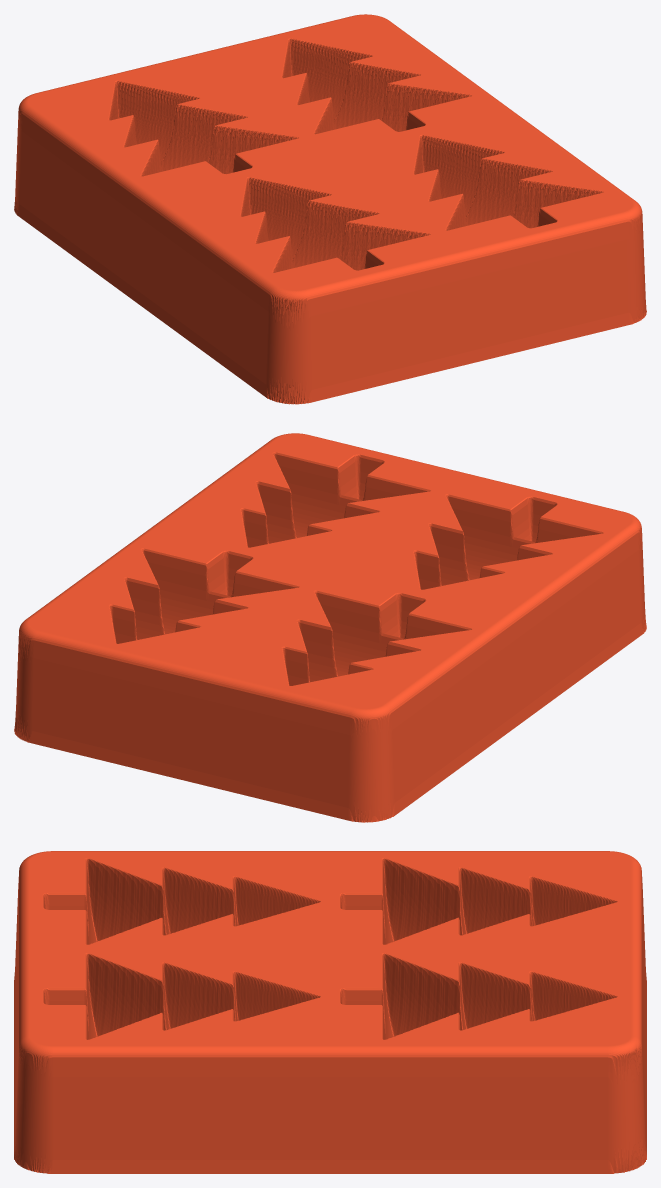
File: mold.glb
The picture shows the model from 3 angles, top to bottom: view 1: azimuth 30°, elevation 25°; view 2: azimuth 150°, elevation 25°; view 3: azimuth 270°, elevation 25°; orthographic projection. The views are drawn at different scales.
Parts seen in each view (by area): view 1: geometry_0; view 2: geometry_0; view 3: geometry_0.
Boxes of the visible parts, x1,y1,x2,y2 form: geometry_0: [14, 14, 646, 404]; geometry_0: [14, 433, 646, 822]; geometry_0: [14, 851, 646, 1173].
Bounding box in the file's own units: 0.1135 × 0.031 × 0.1466.
